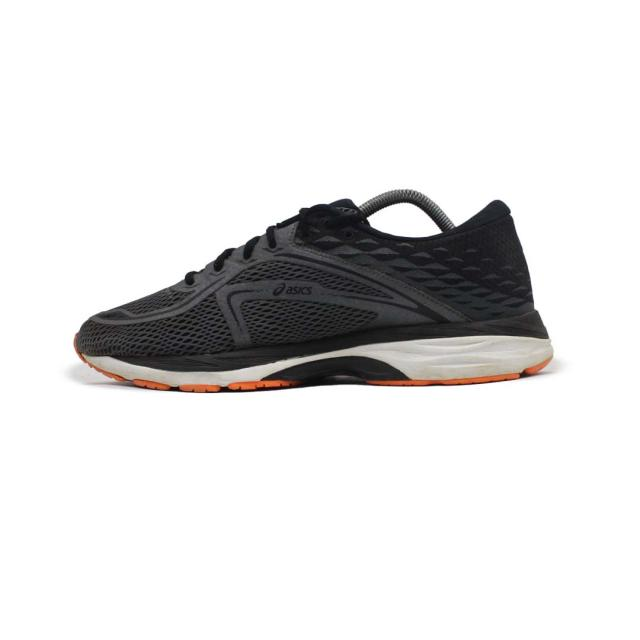heel: (506, 189, 563, 335)
midsole: (78, 344, 565, 394)
uppersole: (56, 216, 512, 340)
